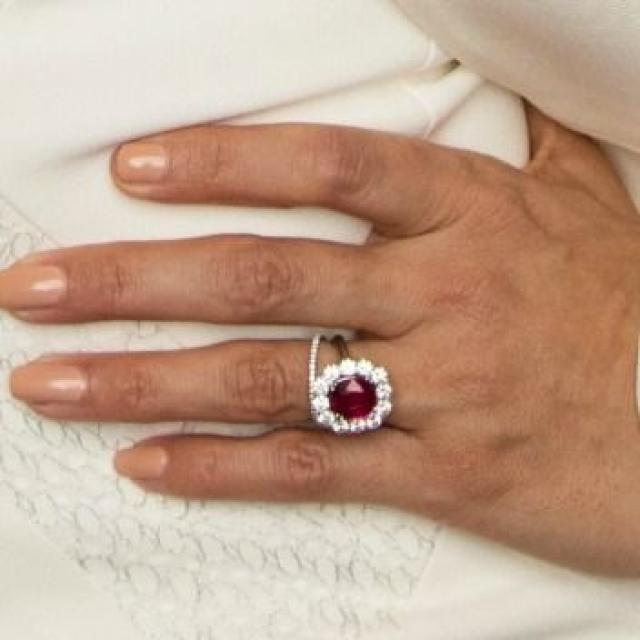Fingernail: (11, 363, 88, 403), (2, 266, 68, 309), (115, 142, 169, 184), (114, 447, 169, 480)
